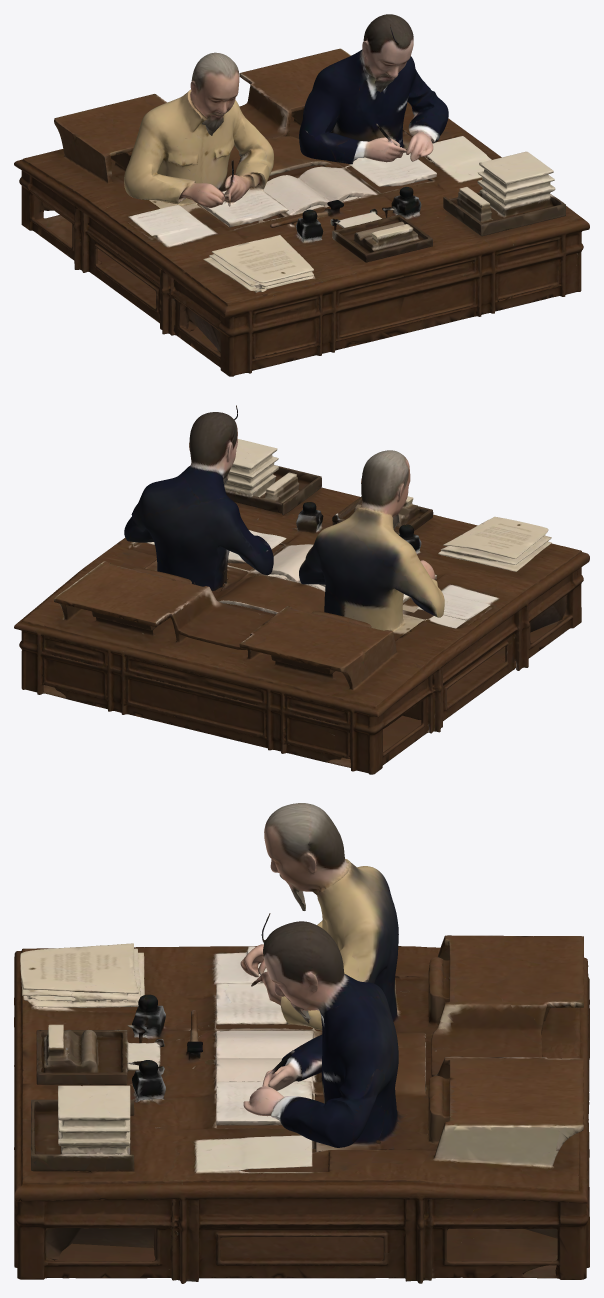
The model's file is Bác Hồ kí cam kết.glb.
3 renders of one model, top to bottom at view 1: azimuth 30°, elevation 25°; view 2: azimuth 150°, elevation 25°; view 3: azimuth 270°, elevation 25°, orthographic. The views are drawn at different scales.
Size of the model in its own units: 1.9 by 1.1 by 1.9.
1 material, 1 textured.
